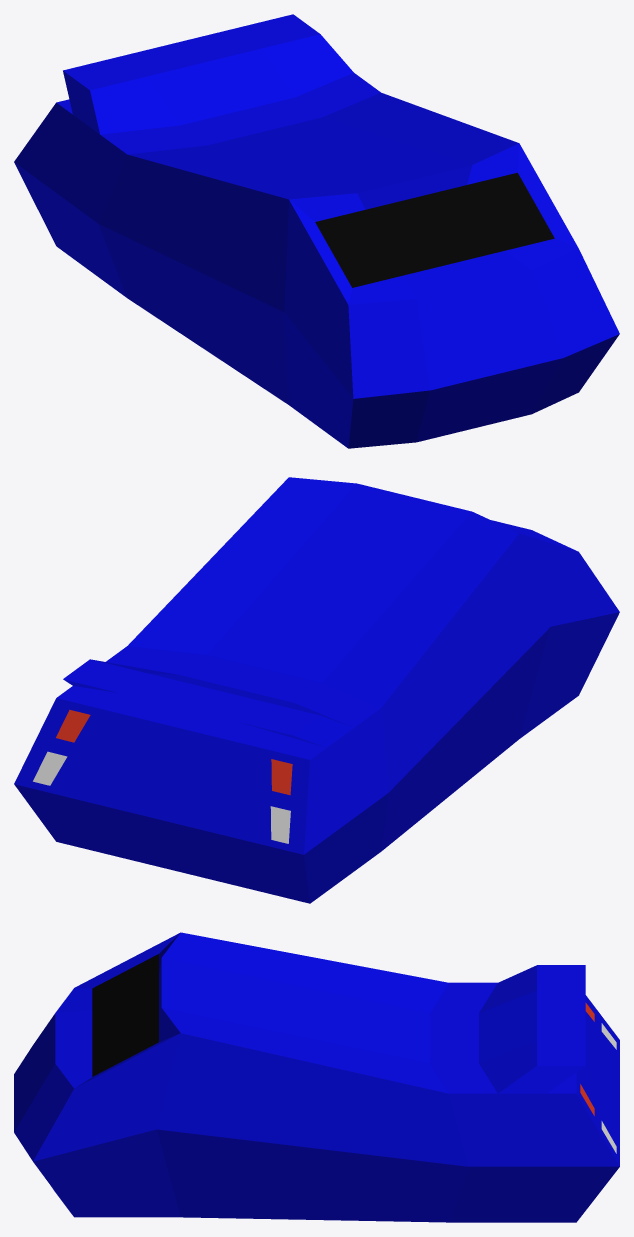
The model's file is carbody.fbx.
3 views of the same model, one above another, from view 1: azimuth 30°, elevation 25°; view 2: azimuth 150°, elevation 25°; view 3: azimuth 270°, elevation 25° (orthographic). The views are drawn at different scales.
Parts seen in each view (by area): view 1: Cube, Cube.001; view 2: Cube, Cube.002, Cube.003; view 3: Cube, Cube.001.
Boxes of the visible parts, <box> form: Cube: <box>14,14,619,448</box>; Cube.001: <box>315,172,554,287</box>; Cube: <box>14,477,619,903</box>; Cube.002: <box>56,709,292,795</box>; Cube.003: <box>33,751,290,843</box>; Cube: <box>14,932,619,1222</box>; Cube.001: <box>92,954,158,1076</box>.
Size of the model in its own units: 422 by 286 by 853.
